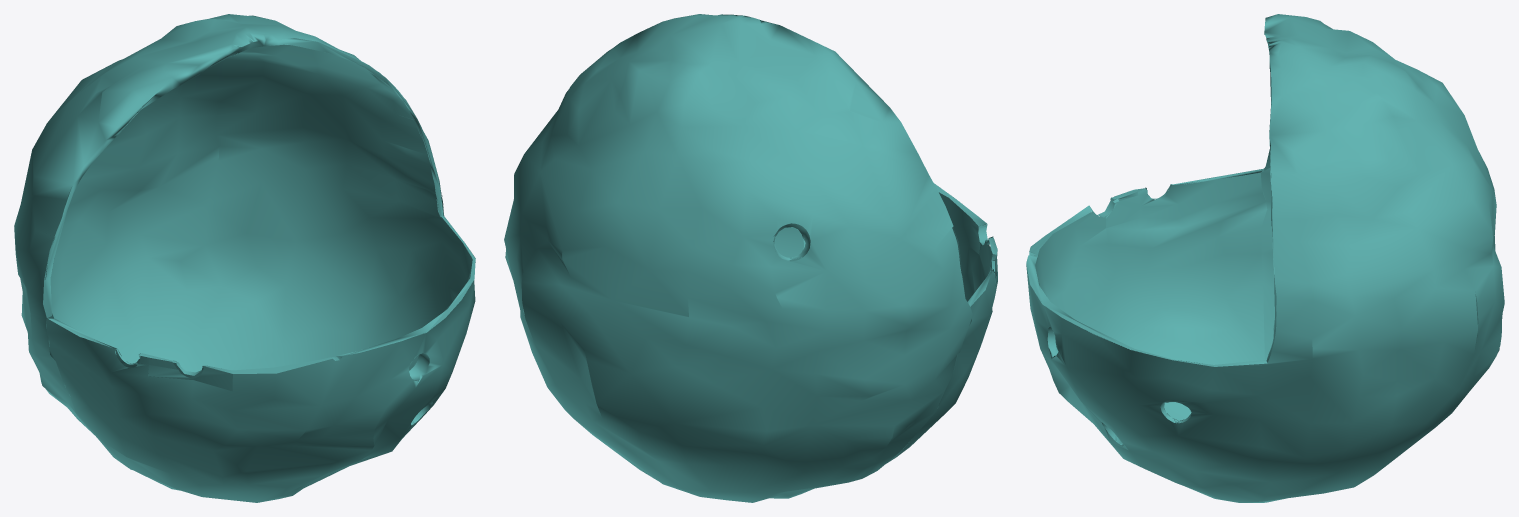
File: plasmaMembrane.glb
3 renders of one model, left to right at view 1: azimuth 30°, elevation 25°; view 2: azimuth 150°, elevation 25°; view 3: azimuth 270°, elevation 25°, orthographic. The views are drawn at different scales.
Parts seen in each view (by area): view 1: Plasma Membrane; view 2: Plasma Membrane; view 3: Plasma Membrane.
Boxes of the visible parts, bbox=[...] form: Plasma Membrane: bbox=[14, 14, 475, 502]; Plasma Membrane: bbox=[504, 14, 997, 502]; Plasma Membrane: bbox=[1026, 14, 1504, 502].
Size of the model in its own units: 19.78 by 20.41 by 19.84.
